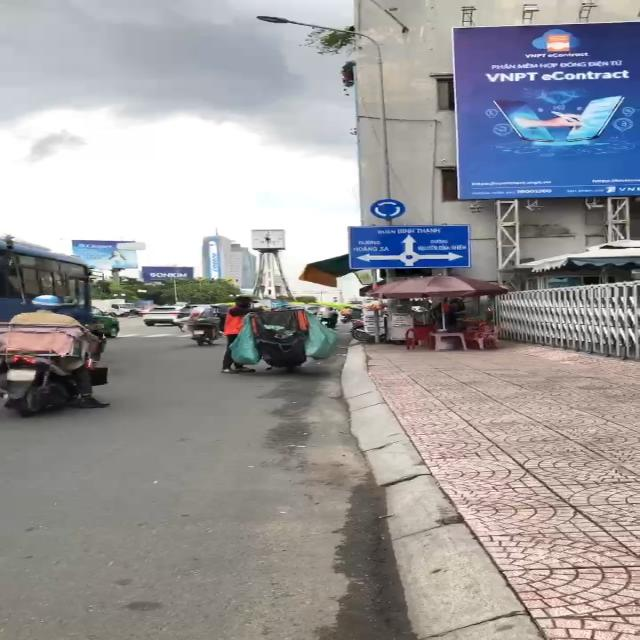Bien bao noi giao nhau chay theo vong xuyen: (366, 198, 408, 220)
